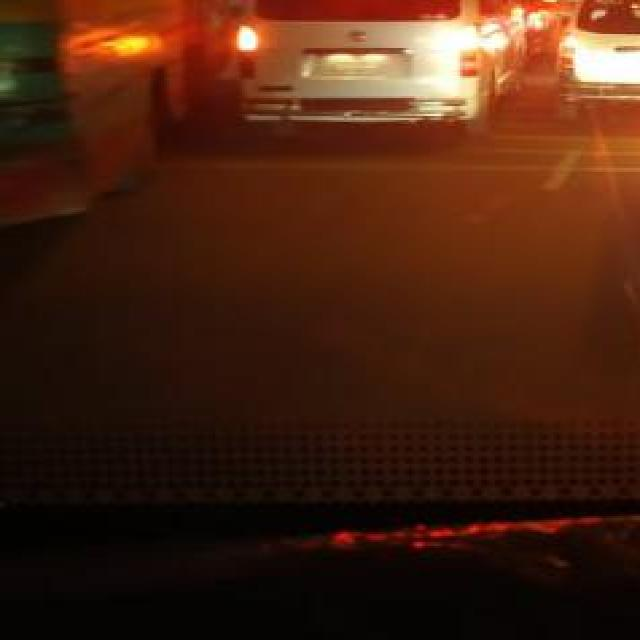bus: (0, 0, 229, 226)
car: (226, 0, 532, 142), (551, 0, 640, 112)
